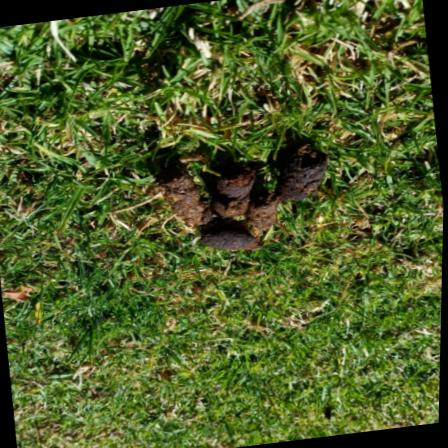dog-poop: (160, 142, 335, 258)
